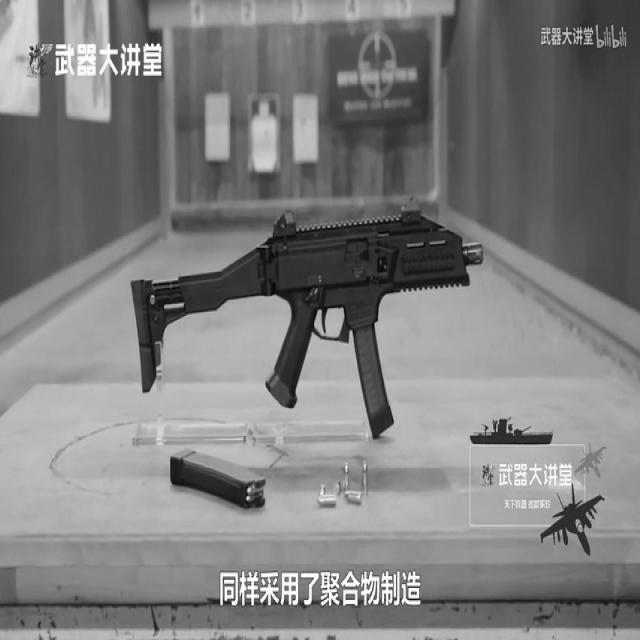Rifle: (76, 96, 576, 529)
